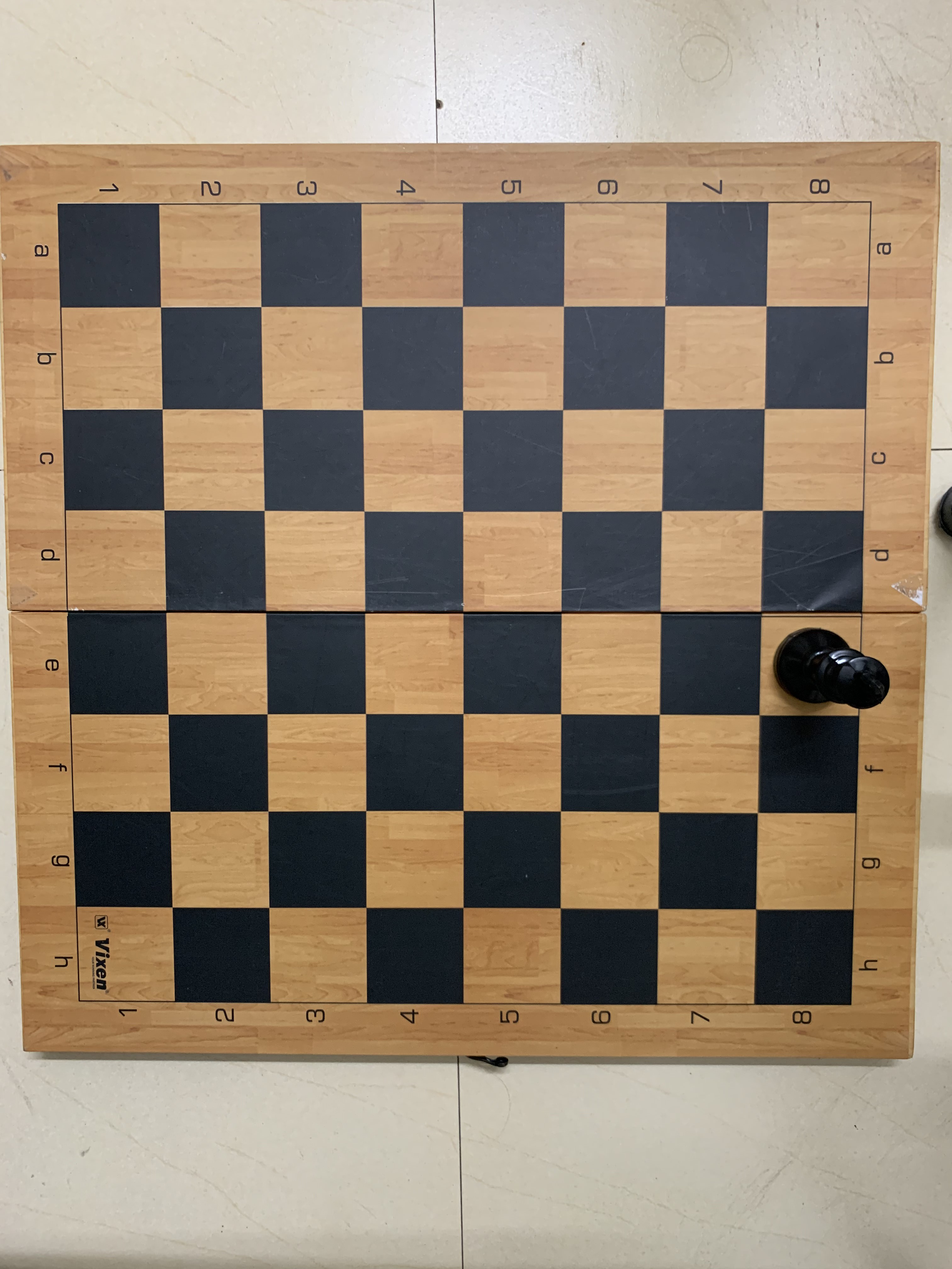black_king: (762, 611, 902, 716)
